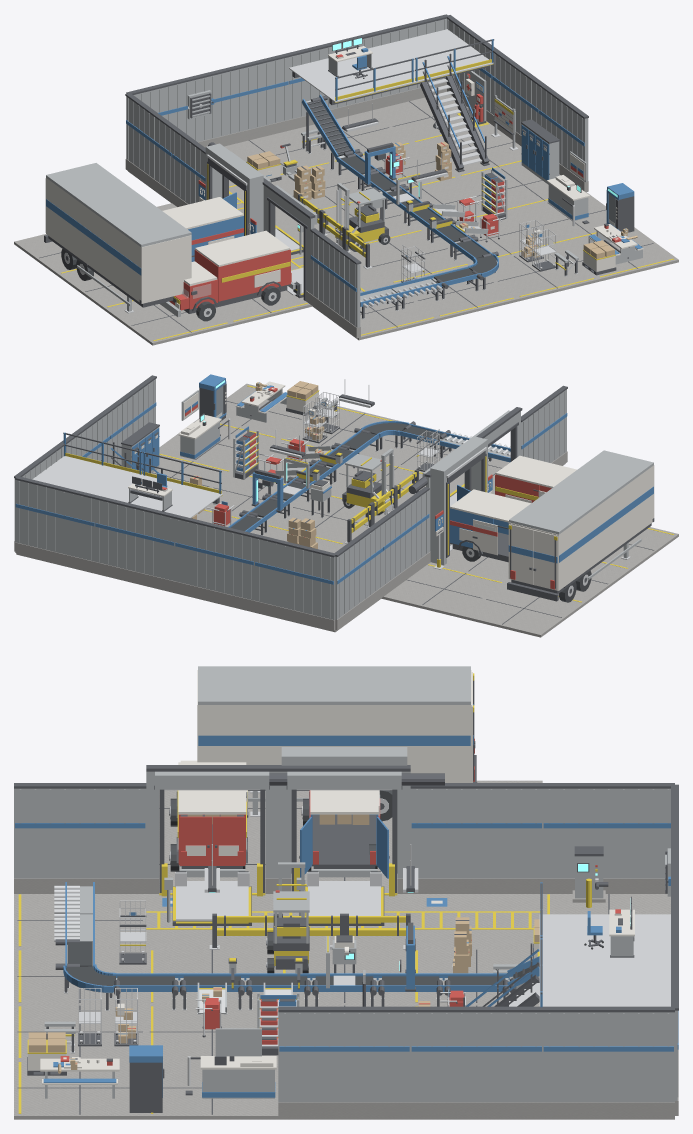
Rendered from parcel-sorting-hub-logistics-hall.glb.
The picture shows the model from 3 angles, top to bottom: view 1: azimuth 30°, elevation 25°; view 2: azimuth 150°, elevation 25°; view 3: azimuth 270°, elevation 25°; orthographic projection. The views are drawn at different scales.
Visible parts, largest first — view 1: 074-parcel-depot-and-sorting-hall-box-lorry-trailer/1, 074-parcel-depot-and-sorting-hall-box-lorry-trailer/2, 027-parcel-depot-and-sorting-hall-hall-wall-module/1, 080-parcel-depot-and-sorting-hall-mezzanine-office-deck/0, 008-parcel-depot-and-sorting-hall-hall-floor-tile/0, 073-parcel-depot-and-sorting-hall-delivery-van-red/1, 035-parcel-depot-and-sorting-hall-hall-wall-module/1, 014-parcel-depot-and-sorting-hall-hall-floor-tile/0, 079-parcel-depot-and-sorting-hall-mezzanine-office-deck/0, 033-parcel-depot-and-sorting-hall-hall-wall-module/1, 025-parcel-depot-and-sorting-hall-hall-floor-tile/0, 073-parcel-depot-and-sorting-hall-delivery-van-red/2 (+55 smaller); view 2: 074-parcel-depot-and-sorting-hall-box-lorry-trailer/2, 074-parcel-depot-and-sorting-hall-box-lorry-trailer/1, 026-parcel-depot-and-sorting-hall-hall-wall-module/1, 029-parcel-depot-and-sorting-hall-hall-wall-module/1, 027-parcel-depot-and-sorting-hall-hall-wall-module/1, 028-parcel-depot-and-sorting-hall-hall-wall-module/1, 020-parcel-depot-and-sorting-hall-hall-floor-tile/0, 023-parcel-depot-and-sorting-hall-hall-floor-tile/0, 033-parcel-depot-and-sorting-hall-hall-wall-module/1, 034-parcel-depot-and-sorting-hall-hall-wall-module/1, 069-parcel-depot-and-sorting-hall-dock-shelter-frame/0, 080-parcel-depot-and-sorting-hall-mezzanine-office-deck/0 (+53 smaller); view 3: 074-parcel-depot-and-sorting-hall-box-lorry-trailer/1, 032-parcel-depot-and-sorting-hall-hall-wall-module/1, 030-parcel-depot-and-sorting-hall-hall-wall-module/1, 031-parcel-depot-and-sorting-hall-hall-wall-module/1, 035-parcel-depot-and-sorting-hall-hall-wall-module/1, 034-parcel-depot-and-sorting-hall-hall-wall-module/1, 074-parcel-depot-and-sorting-hall-box-lorry-trailer/2, 033-parcel-depot-and-sorting-hall-hall-wall-module/1, 001-parcel-depot-and-sorting-hall-floor-marking-walkway-tile (×2), 079-parcel-depot-and-sorting-hall-mezzanine-office-deck/0, 019-parcel-depot-and-sorting-hall-hall-floor-tile/0, 037-parcel-depot-and-sorting-hall-roller-shutter-door-open/1 (+59 smaller).
Part boxes in pixels (box(x1,y1,x2,y2)): 074-parcel-depot-and-sorting-hall-box-lorry-trailer/1: box(46, 178, 191, 303); 074-parcel-depot-and-sorting-hall-box-lorry-trailer/2: box(46, 163, 191, 311); 027-parcel-depot-and-sorting-hall-hall-wall-module/1: box(208, 57, 288, 139); 080-parcel-depot-and-sorting-hall-mezzanine-office-deck/0: box(369, 29, 493, 82); 008-parcel-depot-and-sorting-hall-hall-floor-tile/0: box(349, 231, 471, 284); 073-parcel-depot-and-sorting-hall-delivery-van-red/1: box(169, 249, 291, 310); 035-parcel-depot-and-sorting-hall-hall-wall-module/1: box(311, 232, 360, 327); 014-parcel-depot-and-sorting-hall-hall-floor-tile/0: box(488, 245, 598, 301); 079-parcel-depot-and-sorting-hall-mezzanine-office-deck/0: box(289, 48, 415, 102); 033-parcel-depot-and-sorting-hall-hall-wall-module/1: box(126, 96, 172, 191); 025-parcel-depot-and-sorting-hall-hall-floor-tile/0: box(106, 302, 232, 345); 073-parcel-depot-and-sorting-hall-delivery-van-red/2: box(175, 230, 289, 308); 074-parcel-depot-and-sorting-hall-box-lorry-trailer/2: box(509, 450, 653, 579); 074-parcel-depot-and-sorting-hall-box-lorry-trailer/1: box(508, 465, 654, 590); 026-parcel-depot-and-sorting-hall-hall-wall-module/1: box(254, 538, 335, 619); 029-parcel-depot-and-sorting-hall-hall-wall-module/1: box(15, 480, 95, 561); 027-parcel-depot-and-sorting-hall-hall-wall-module/1: box(175, 518, 254, 600); 028-parcel-depot-and-sorting-hall-hall-wall-module/1: box(95, 499, 174, 580); 020-parcel-depot-and-sorting-hall-hall-floor-tile/0: box(381, 563, 506, 617); 023-parcel-depot-and-sorting-hall-hall-floor-tile/0: box(461, 582, 586, 637); 033-parcel-depot-and-sorting-hall-hall-wall-module/1: box(335, 524, 382, 619); 034-parcel-depot-and-sorting-hall-hall-wall-module/1: box(383, 490, 428, 585); 069-parcel-depot-and-sorting-hall-dock-shelter-frame/0: box(430, 436, 487, 565); 080-parcel-depot-and-sorting-hall-mezzanine-office-deck/0: box(32, 456, 142, 498); 074-parcel-depot-and-sorting-hall-box-lorry-trailer/1: box(197, 670, 471, 782); 032-parcel-depot-and-sorting-hall-hall-wall-module/1: box(278, 1012, 410, 1102); 030-parcel-depot-and-sorting-hall-hall-wall-module/1: box(542, 1012, 674, 1102); 031-parcel-depot-and-sorting-hall-hall-wall-module/1: box(410, 1012, 542, 1102); 035-parcel-depot-and-sorting-hall-hall-wall-module/1: box(14, 788, 146, 878); 034-parcel-depot-and-sorting-hall-hall-wall-module/1: box(410, 788, 542, 878); 074-parcel-depot-and-sorting-hall-box-lorry-trailer/2: box(198, 666, 470, 814); 033-parcel-depot-and-sorting-hall-hall-wall-module/1: box(542, 788, 670, 878); 001-parcel-depot-and-sorting-hall-floor-marking-walkway-tile (×2): box(410, 894, 540, 948); 079-parcel-depot-and-sorting-hall-mezzanine-office-deck/0: box(539, 914, 670, 970); 019-parcel-depot-and-sorting-hall-hall-floor-tile/0: box(14, 1060, 146, 1119); 037-parcel-depot-and-sorting-hall-roller-shutter-door-open/1: box(146, 771, 278, 878).
Size of the model in its own units: 24.12 by 4.72 by 20.12.
12 materials, 1 textured.
